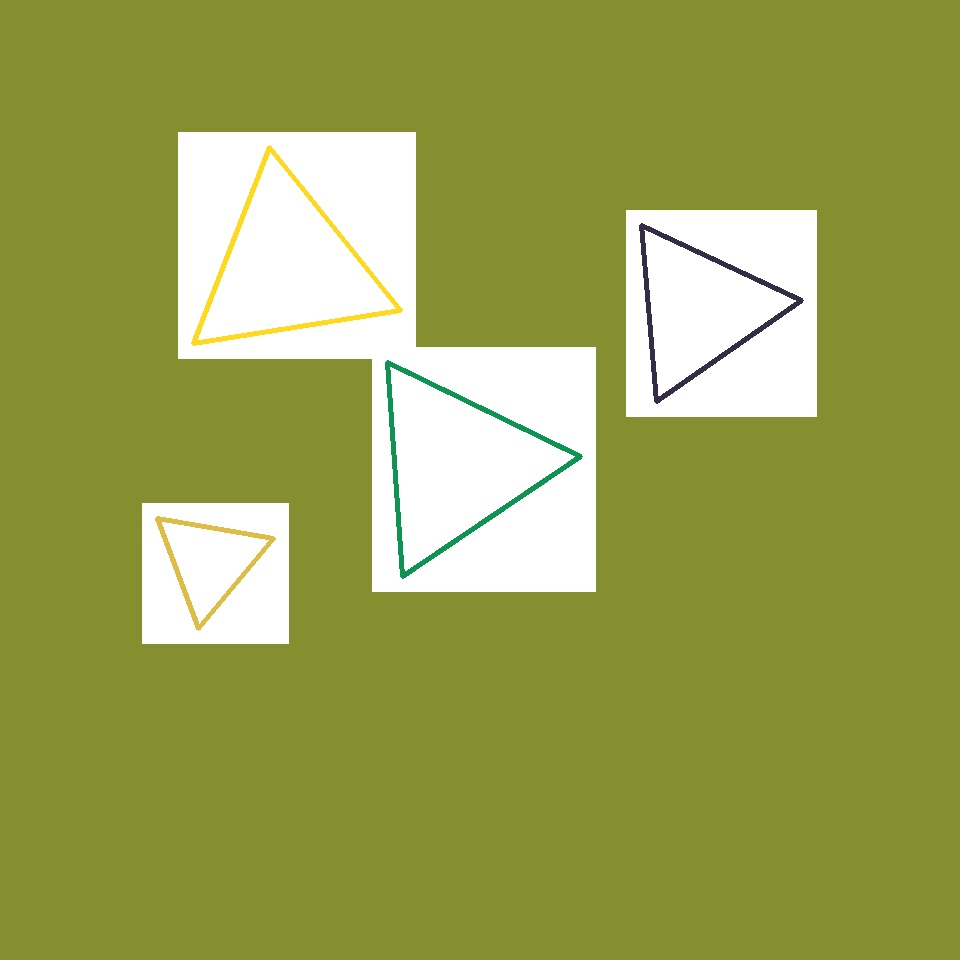circle: (360, 358, 554, 572), (184, 169, 392, 365), (620, 221, 780, 397), (152, 507, 268, 617)
square: (200, 410, 570, 779), (682, 520, 934, 772), (433, 450, 583, 600)
triangle: (82, 762, 237, 916)
